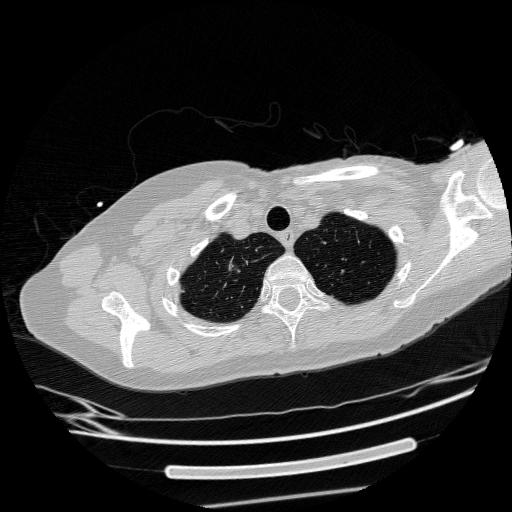nodule: (224, 260, 238, 274)
